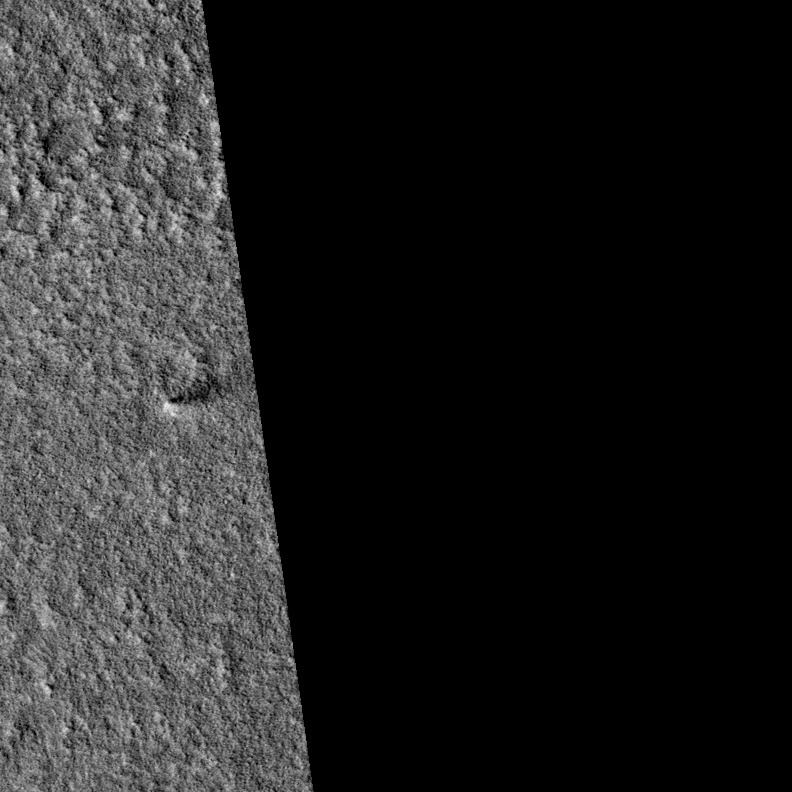dust_devil: (161, 373, 230, 420)
